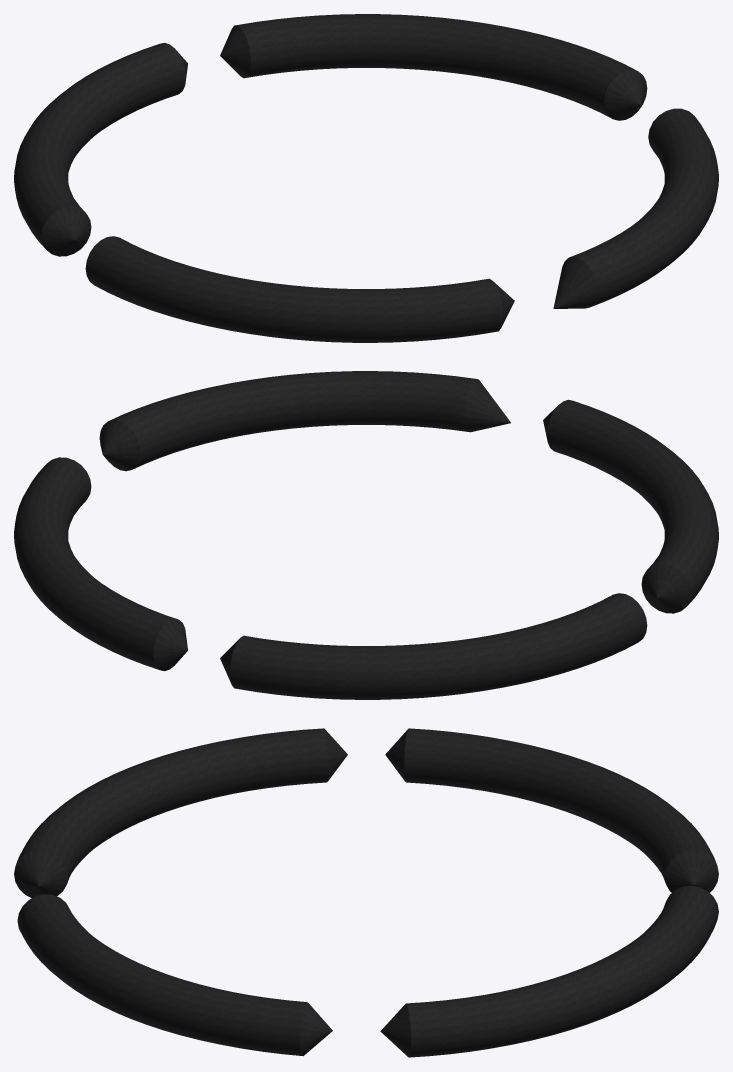
The model's file is RingTwo.gltf.
The picture shows the model from 3 angles, top to bottom: view 1: azimuth 30°, elevation 25°; view 2: azimuth 150°, elevation 25°; view 3: azimuth 270°, elevation 25°; orthographic projection.
Visible parts, largest first — view 1: Object 5; view 2: Object 5; view 3: Object 5.
Boxes of the visible parts, <box> form: Object 5: <box>14,14,718,342</box>; Object 5: <box>14,371,718,699</box>; Object 5: <box>14,728,718,1057</box>.
Bounding box in the file's own units: 0.0645 × 0.005 × 0.0645.
Materials: 1 (1 with a texture image).
